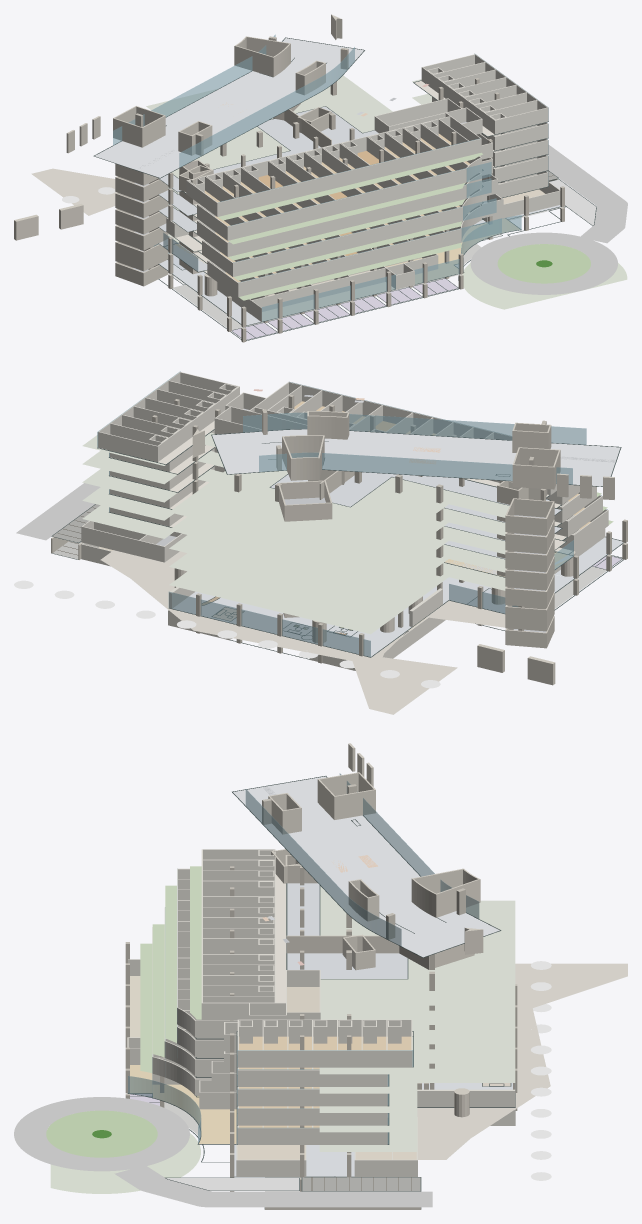
Rendered from interior.glb.
The picture shows the model from 3 angles, top to bottom: view 1: azimuth 30°, elevation 25°; view 2: azimuth 150°, elevation 25°; view 3: azimuth 270°, elevation 25°; orthographic projection. The views are drawn at different scales.
Parts seen in each view (by area): view 1: 6F|prtn, 1F|floor, R5|floor, 6F|floor, 5F|prtn, 3F|prtn, 2F|prtn, R5|wall, B1|floor, 4F|prtn, 1F|prtn, R5|glass (+22 smaller); view 2: 1F|floor, 6F|floor, 6F|prtn, R5|floor, R5|glass, 4F|floor, 5F|floor, 2F|floor, 3F|floor, R5|wall, 6F|wall, 1F|glass (+17 smaller); view 3: 1F|floor, 6F|floor, 6F|prtn, R5|floor, R5|wall, 5F|floor, 5F|prtn, 3F|floor, 2F|floor, 1F|prtn, R5|glass, 2F|prtn (+11 smaller).
Part boxes in pixels (<box>): 6F|prtn: <box>186,54,548,216</box>; 1F|floor: <box>31,145,627,325</box>; R5|floor: <box>94,38,428,177</box>; 6F|floor: <box>146,75,494,220</box>; 5F|prtn: <box>197,97,548,240</box>; 3F|prtn: <box>166,155,548,276</box>; 2F|prtn: <box>207,171,548,297</box>; R5|wall: <box>66,14,342,155</box>; B1|floor: <box>133,206,627,339</box>; 4F|prtn: <box>197,139,548,256</box>; 1F|prtn: <box>217,182,560,321</box>; R5|glass: <box>113,34,354,167</box>; 1F|floor: <box>14,475,623,714</box>; 6F|floor: <box>82,401,549,561</box>; 6F|prtn: <box>98,372,556,495</box>; R5|floor: <box>212,389,620,486</box>; R5|glass: <box>243,412,586,484</box>; 4F|floor: <box>82,463,601,597</box>; 5F|floor: <box>82,445,561,579</box>; 2F|floor: <box>82,505,613,634</box>; 3F|floor: <box>82,481,607,615</box>; R5|wall: <box>192,411,614,499</box>; 6F|wall: <box>278,470,554,535</box>; 1F|glass: <box>168,584,518,657</box>; 1F|floor: <box>14,961,627,1207</box>; 6F|floor: <box>190,866,515,1074</box>; 6F|prtn: <box>201,849,412,1067</box>; R5|floor: <box>233,776,499,965</box>; R5|wall: <box>268,743,483,954</box>; 5F|floor: <box>165,885,515,1093</box>; 5F|prtn: <box>177,868,387,1086</box>; 3F|floor: <box>152,924,515,1132</box>; 2F|floor: <box>140,943,515,1151</box>; 1F|prtn: <box>127,959,515,1176</box>; R5|glass: <box>245,773,479,946</box>; 2F|prtn: <box>152,927,387,1144</box>.
Size of the model in its own units: 111 by 34.12 by 99.1.
